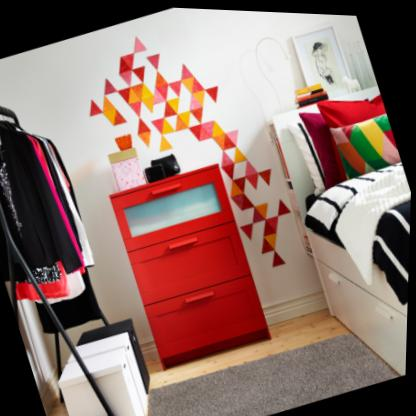Bed: (258, 72, 415, 390)
